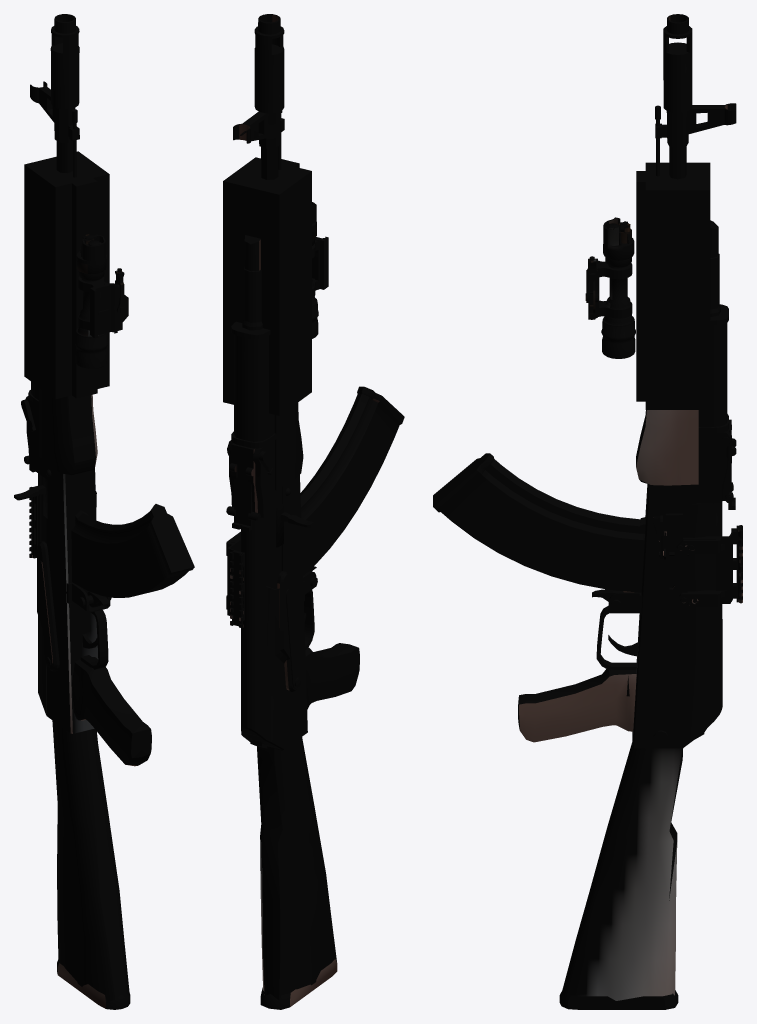
Rendered from AK74__Handguard_AK_Quad__Light_Weapon__Mount_AK_SideRail.fbx.
3 views of the same model, side by side, from view 1: azimuth 30°, elevation 25°; view 2: azimuth 150°, elevation 25°; view 3: azimuth 270°, elevation 25° (orthographic). The views are drawn at different scales.
Visible parts, largest first — view 1: asset_AK74.001; view 2: asset_AK74.001; view 3: asset_AK74.001.
Part boxes in pixels (x1,y1,x2,y2): asset_AK74.001: (14, 14, 194, 1009); asset_AK74.001: (223, 14, 404, 1009); asset_AK74.001: (433, 14, 742, 1009).
Bounding box in the file's own units: 0.046 × 0.564 × 0.1608.
